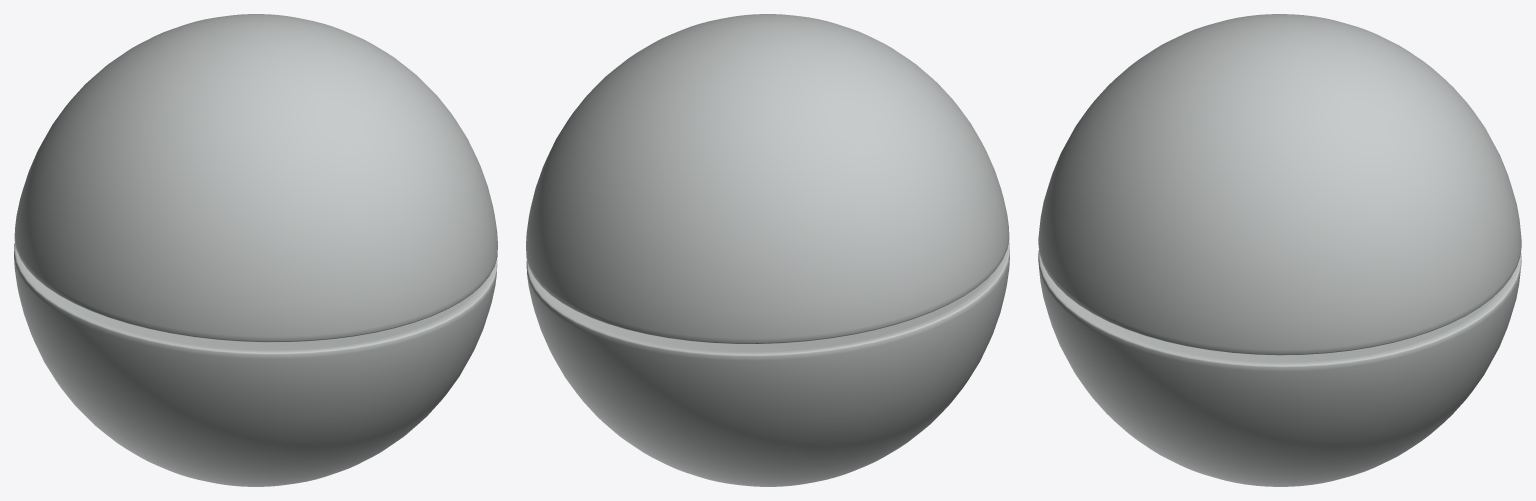
File: grelot2.glb
The picture shows the model from 3 angles, left to right: view 1: azimuth 30°, elevation 25°; view 2: azimuth 150°, elevation 25°; view 3: azimuth 270°, elevation 25°; orthographic projection.
Parts seen in each view (by area): view 1: grelot; view 2: grelot; view 3: grelot.
Part boxes in pixels (x1,y1,x2,y2): grelot: (14, 14, 497, 486); grelot: (526, 14, 1009, 486); grelot: (1038, 14, 1521, 486).
Size of the model in its own units: 0.0759 by 0.0743 by 0.0759.
Materials: 1 (1 with a texture image).
